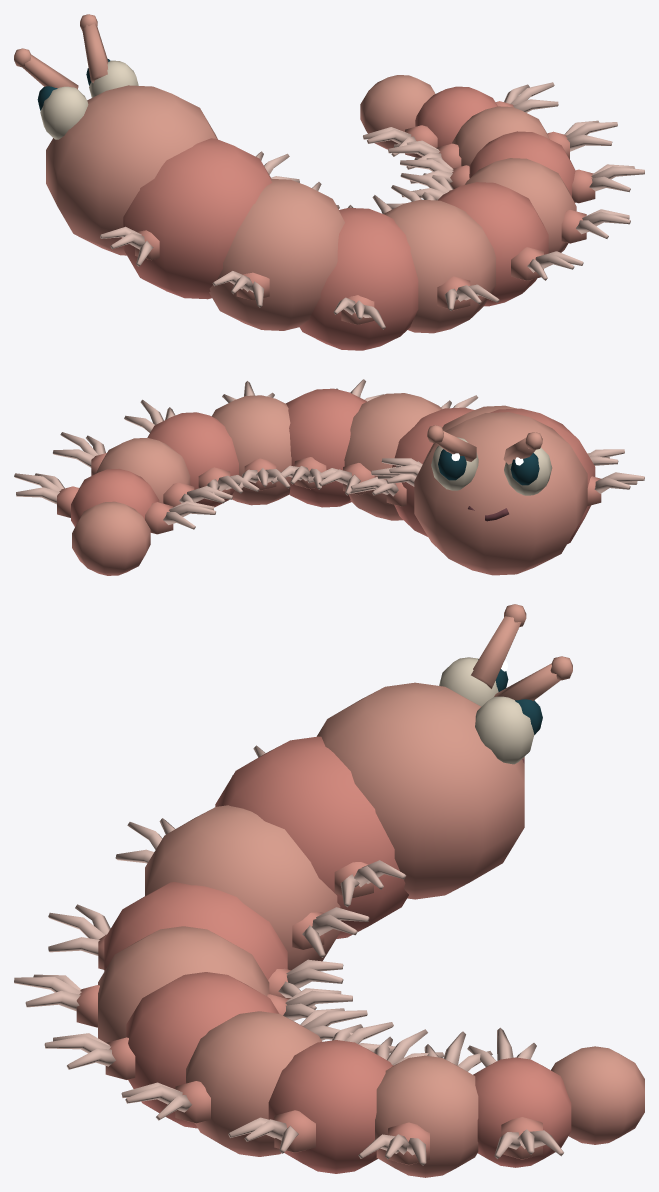
Rendered from worm.glb.
3 views of the same model, one above another, from view 1: azimuth 30°, elevation 25°; view 2: azimuth 150°, elevation 25°; view 3: azimuth 270°, elevation 25° (orthographic). The views are drawn at different scales.
Parts seen in each view (by area): view 1: food_worm_painted_mesh; view 2: food_worm_painted_mesh; view 3: food_worm_painted_mesh.
Boxes of the visible parts, x1=… form: food_worm_painted_mesh: x1=14, y1=14, x2=644, y2=350; food_worm_painted_mesh: x1=14, y1=379, x2=644, y2=575; food_worm_painted_mesh: x1=14, y1=604, x2=644, y2=1177.
Size of the model in its own units: 0.759 by 0.3274 by 0.5877.
